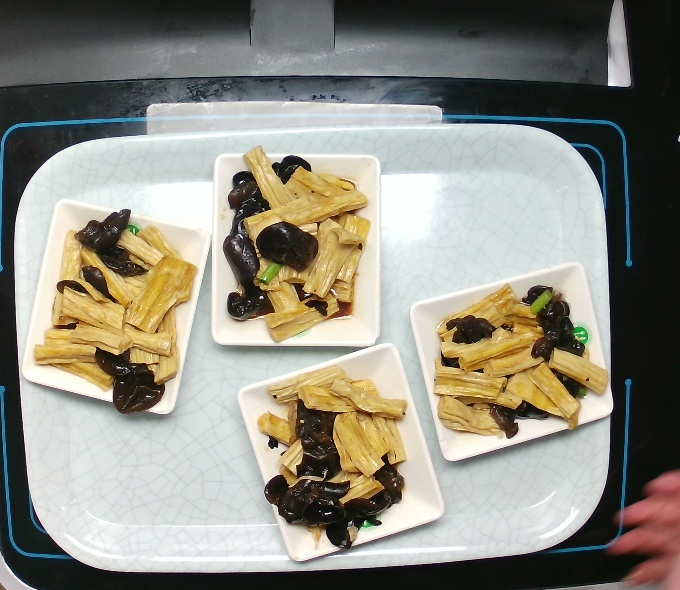wcq-MuErFuZhu: (33, 207, 200, 420), (247, 360, 426, 556), (222, 144, 375, 346), (426, 278, 610, 443)
